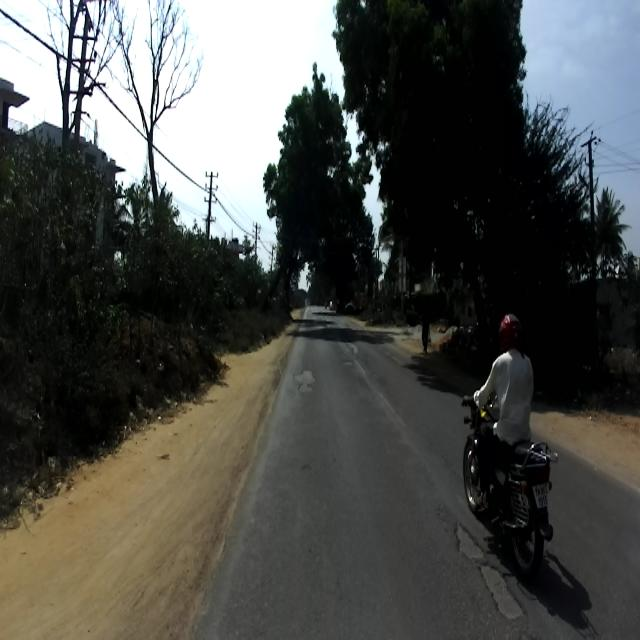motorcycle ahead at: (465, 426, 555, 584)
